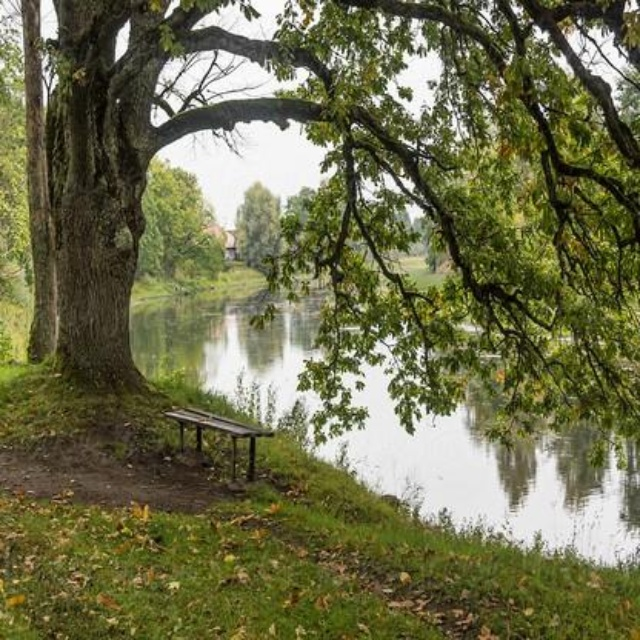obstacle: (169, 380, 280, 508)
